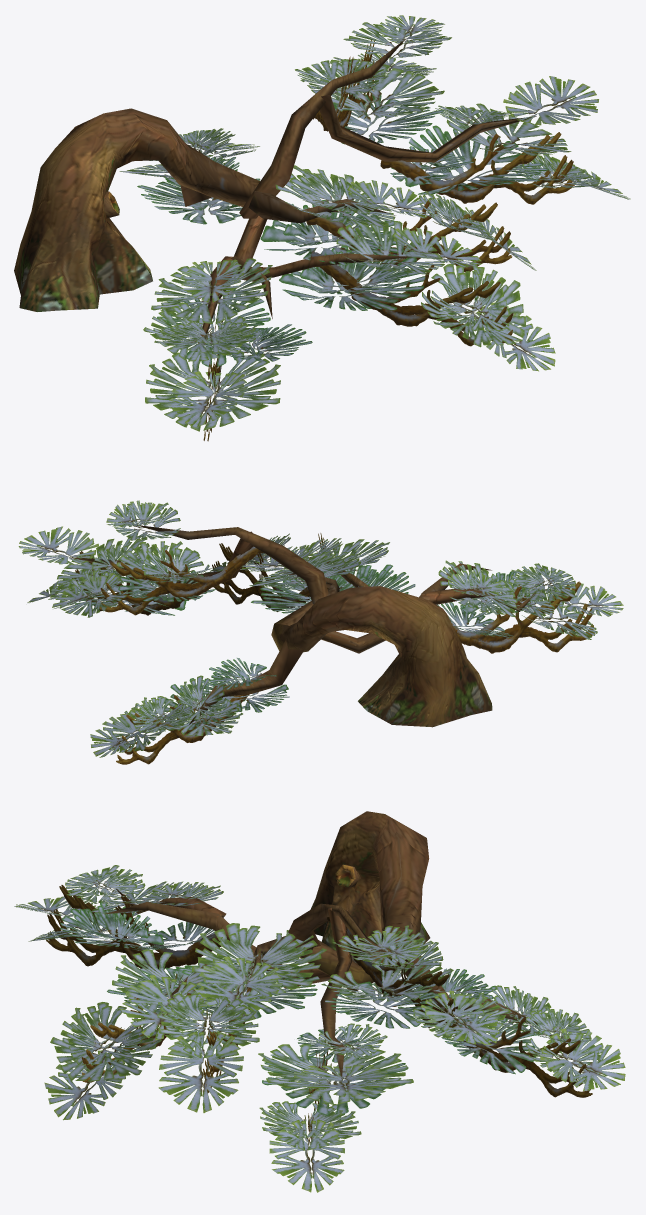
3 renders of one model, top to bottom at view 1: azimuth 30°, elevation 25°; view 2: azimuth 150°, elevation 25°; view 3: azimuth 270°, elevation 25°, orthographic. The views are drawn at different scales.
Parts seen in each view (by area): view 1: MS0002_03_03_2_01, MS0002_03_03_1_01; view 2: MS0002_03_03_2_01, MS0002_03_03_1_01; view 3: MS0002_03_03_2_01, MS0002_03_03_1_01.
Part boxes in pixels (box(x1,y1,x2,y2)): MS0002_03_03_2_01: box(119, 15, 630, 441); MS0002_03_03_1_01: box(14, 38, 536, 337); MS0002_03_03_2_01: box(18, 500, 623, 764); MS0002_03_03_1_01: box(72, 525, 536, 727); MS0002_03_03_2_01: box(14, 865, 625, 1192); MS0002_03_03_1_01: box(104, 811, 537, 1078).
Bounding box in the file's own units: 10.97 × 4.05 × 10.53.
